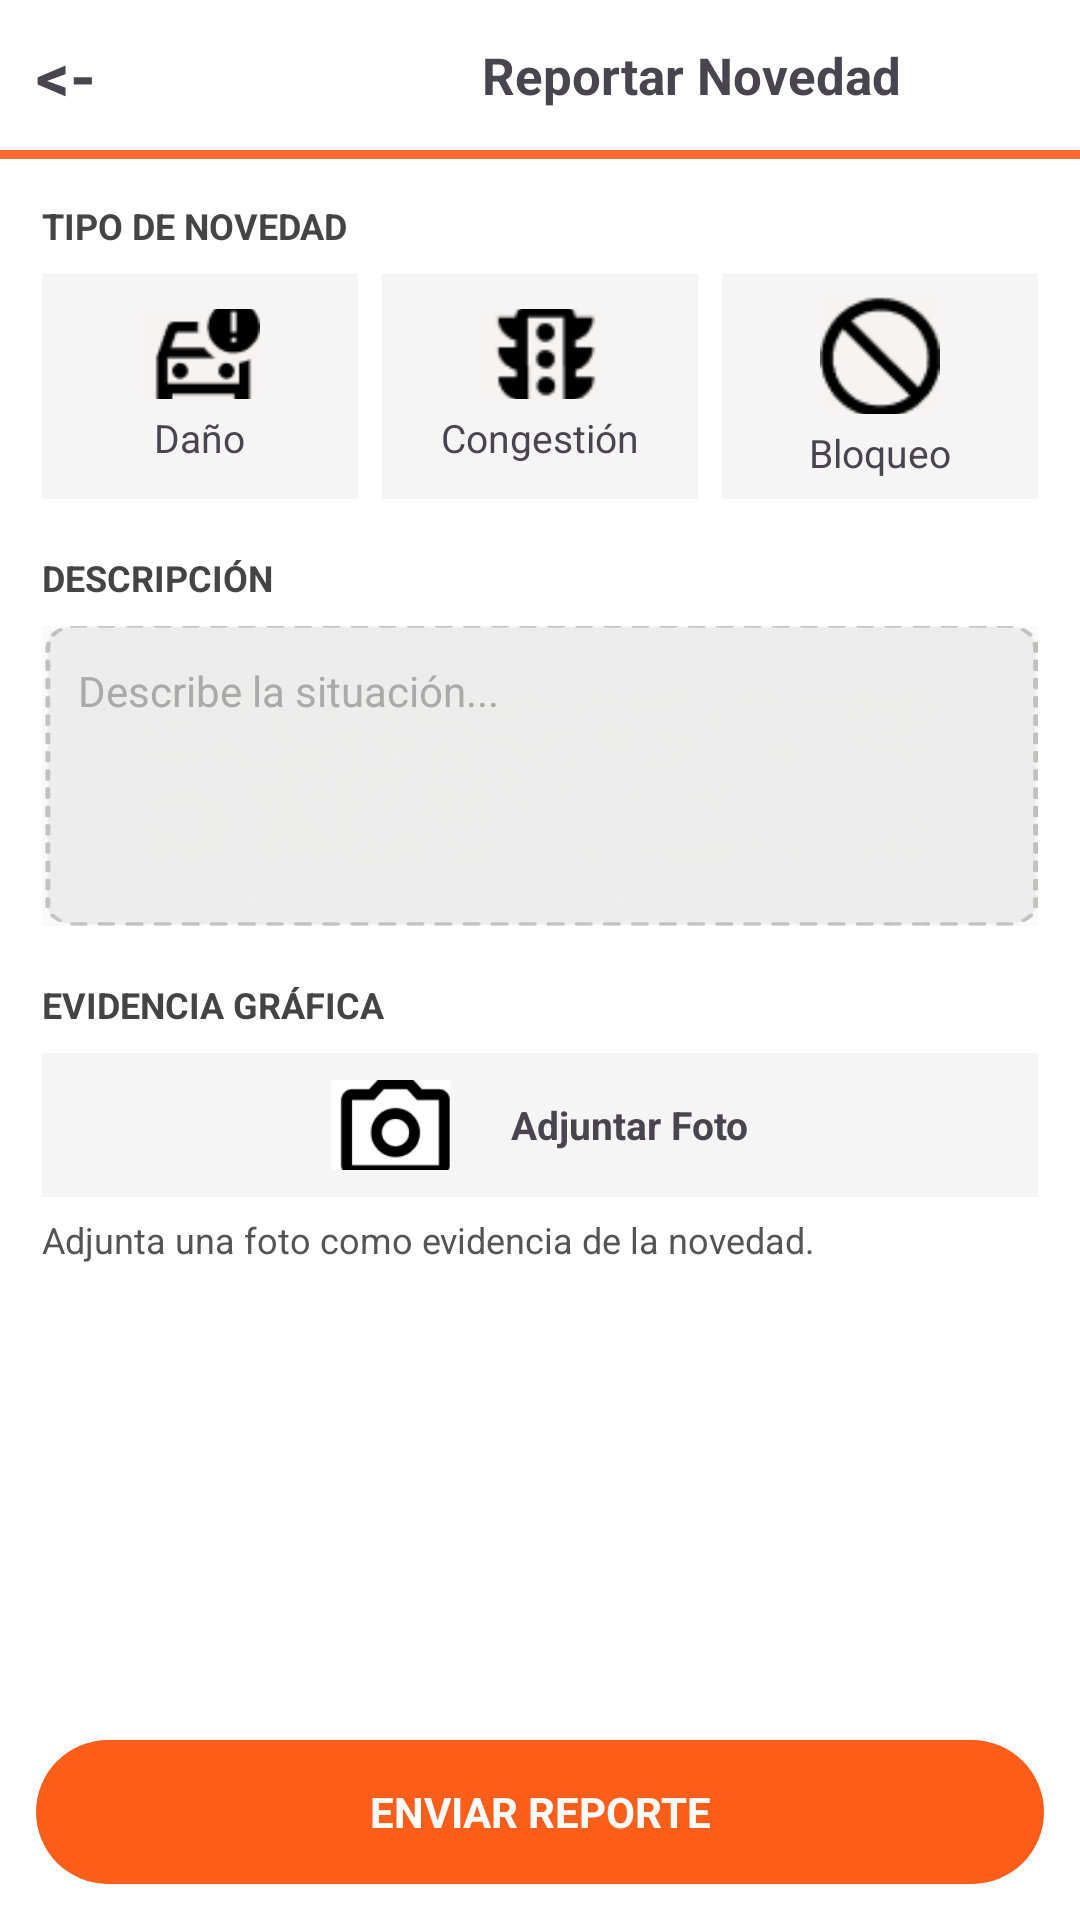

Named icons in this screenshot (1080 x 1920) and their bounding boxes, (x1, y1, x2, y2):
camaraa: (331, 1080, 451, 1170)
semaforo: (497, 309, 596, 399)
